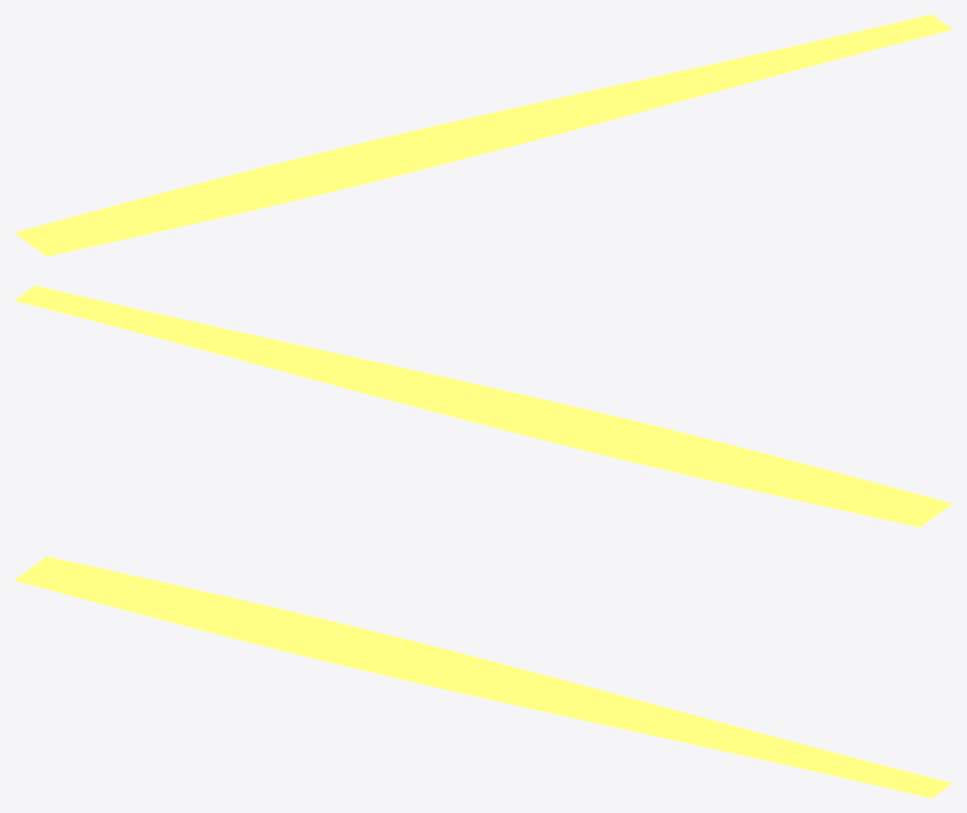
File: Ribbon_Flexible.fbx
3 views of the same model, one above another, from view 1: azimuth 30°, elevation 25°; view 2: azimuth 150°, elevation 25°; view 3: azimuth 330°, elevation 25° (orthographic).
Parts seen in each view (by area): view 1: Ribbon_Flexible_1; view 2: Ribbon_Flexible_1; view 3: Ribbon_Flexible_1.
Part boxes in pixels (x1,y1,x2,y2): Ribbon_Flexible_1: (14, 14, 952, 256); Ribbon_Flexible_1: (14, 285, 952, 527); Ribbon_Flexible_1: (14, 556, 952, 798).
Size of the model in its own units: 15000 by 0 by 1224.
